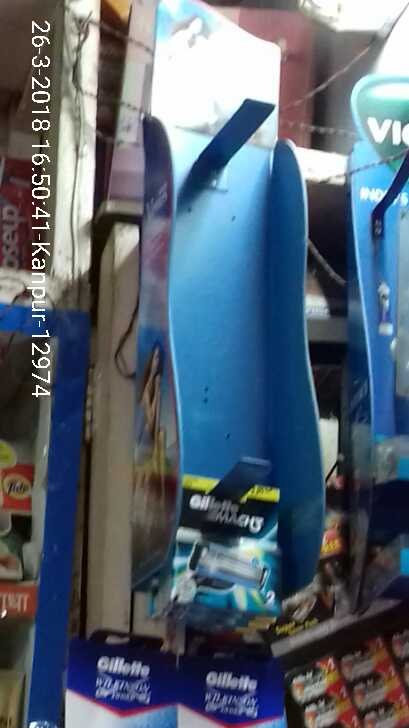gillete: (180, 476, 278, 610)
